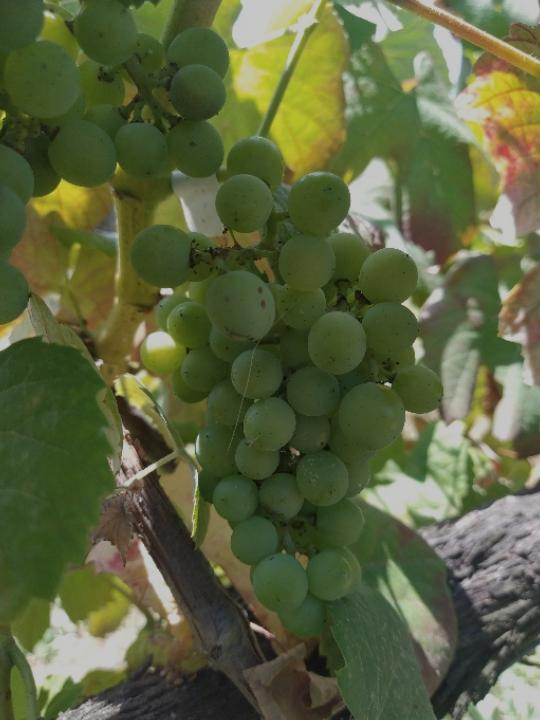grape: (130, 137, 443, 642)
